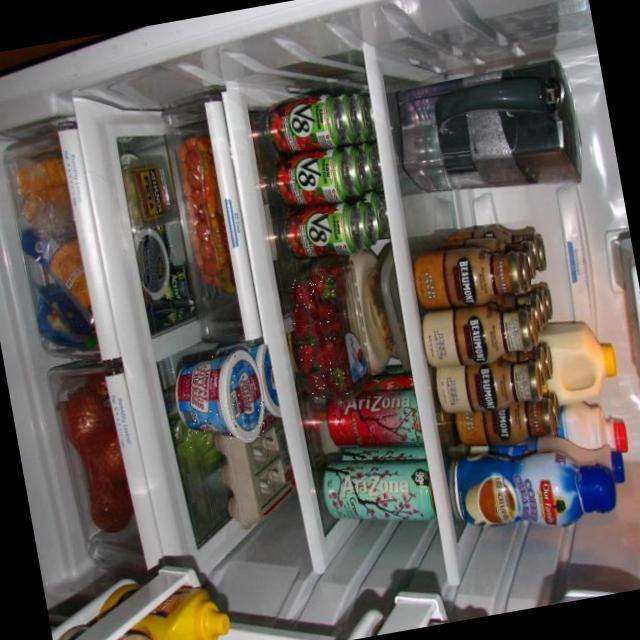Yogur: (169, 346, 270, 452)
strawberries: (294, 336, 320, 378), (289, 277, 315, 315), (305, 365, 326, 399), (320, 337, 340, 372), (327, 369, 349, 398), (309, 275, 333, 300), (291, 313, 312, 336), (314, 316, 332, 340), (318, 302, 337, 323)
